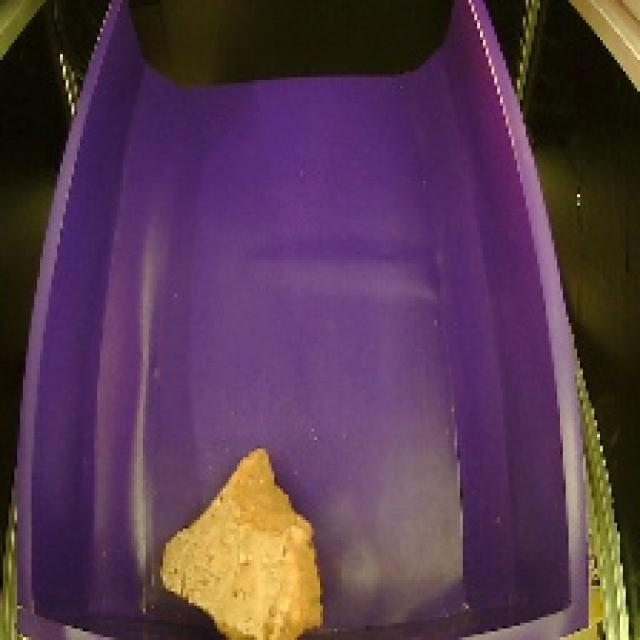brick: (153, 438, 329, 640)
